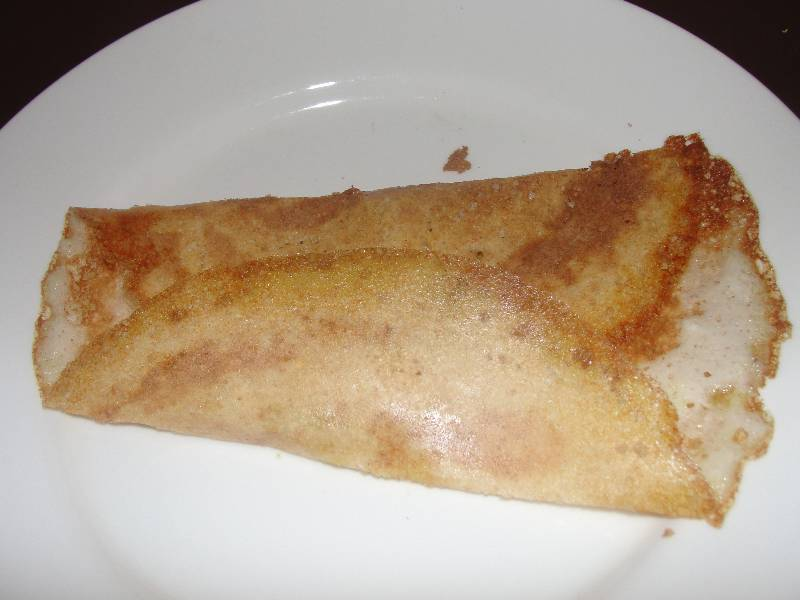dosa: (32, 135, 793, 530)
